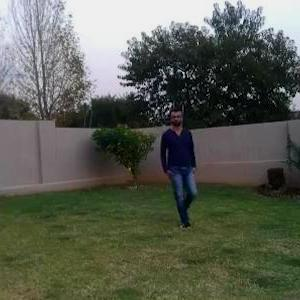follow: (165, 109, 198, 222)
